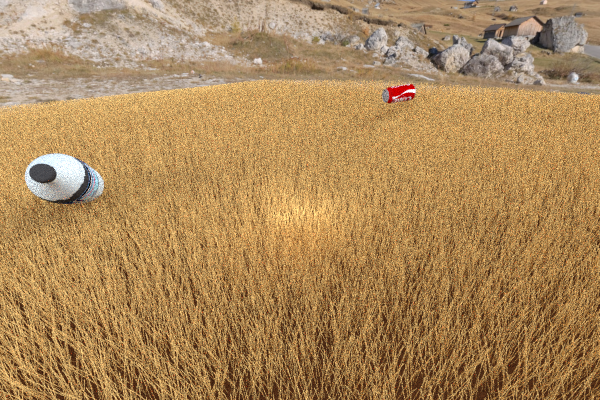bottle: (24, 153, 103, 204)
can: (217, 104, 252, 144), (382, 83, 415, 103)
